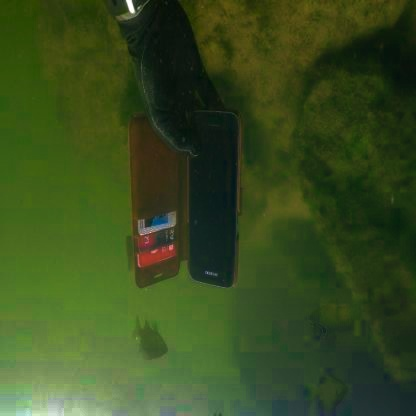cellphone: (186, 110, 239, 288)
